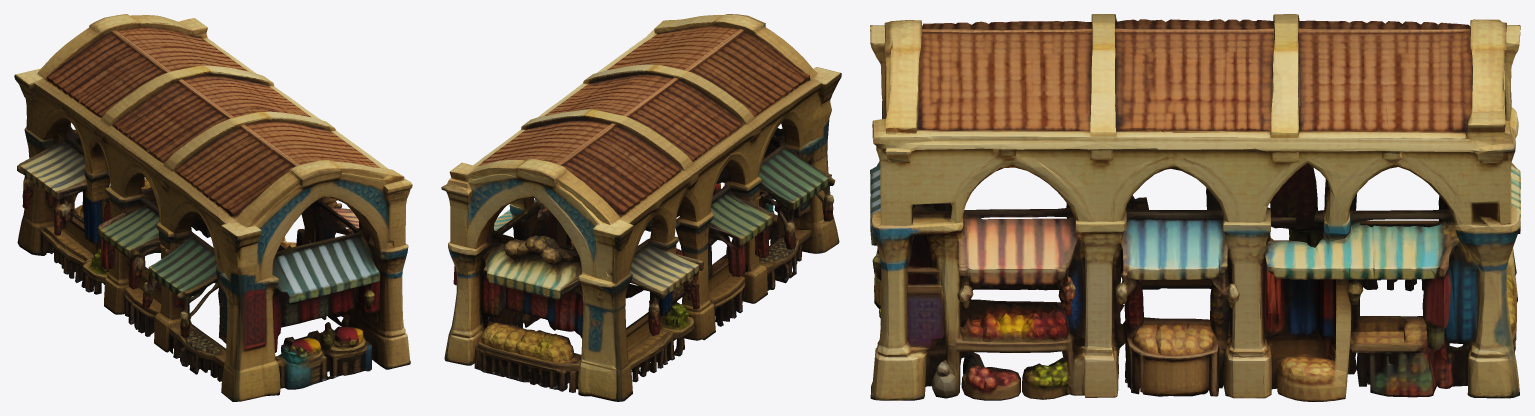
Rendered from market_arcade.glb.
3 renders of one model, left to right at view 1: azimuth 30°, elevation 25°; view 2: azimuth 150°, elevation 25°; view 3: azimuth 270°, elevation 25°, orthographic. The views are drawn at different scales.
Visible parts, largest first — view 1: world; view 2: world; view 3: world.
Part boxes in pixels (x1=…): world: x1=14, y1=14, x2=412, y2=401; world: x1=441, y1=14, x2=841, y2=401; world: x1=870, y1=14, x2=1520, y2=401.
Bounding box in the file's own units: 0.5856 × 0.5313 × 0.999.
1 material, 1 textured.
